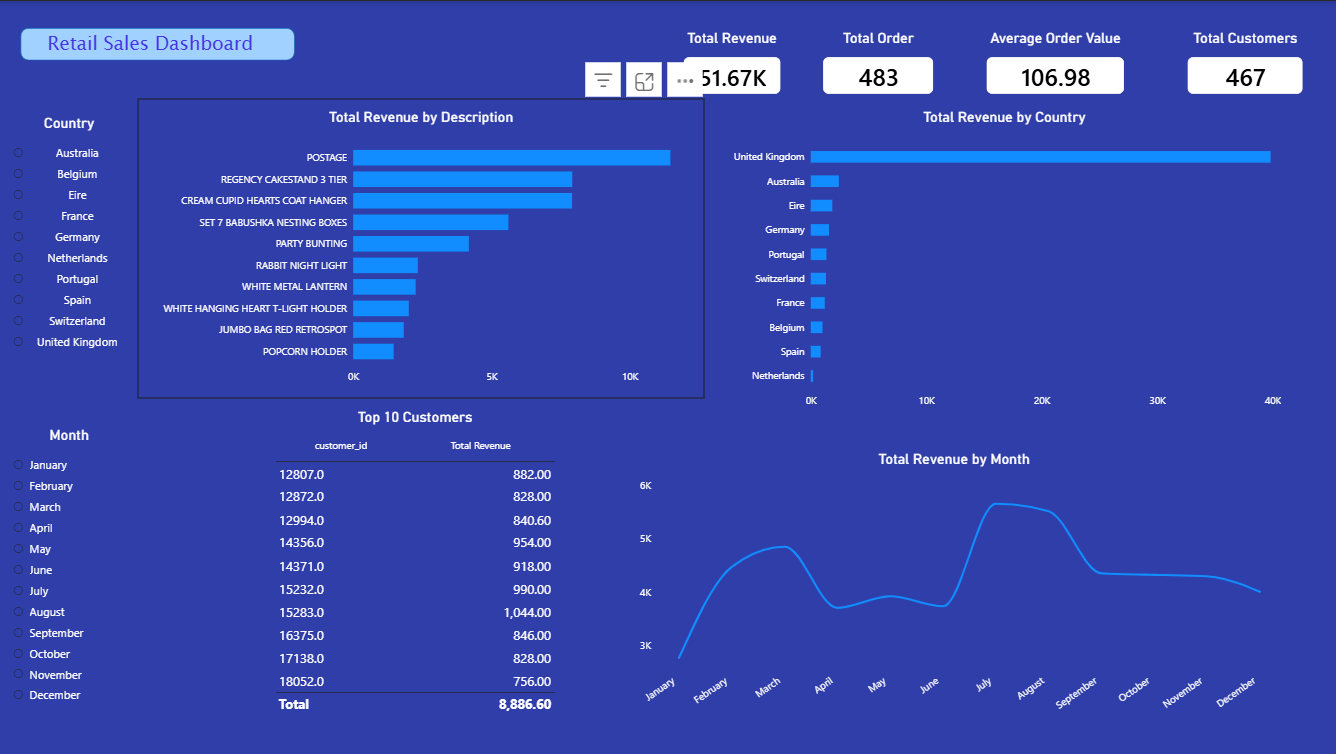

What the dashboard file says about the page in this screenshot:
{"tool":"powerbi","page":{"name":"Page 1","canvas":[1920,1080],"ordinal":0},"visuals":[{"type":"cardVisual","title":"Total Revenue","fields":{"Data":["retail_sales sales.Total Revenue"]},"box":[982.4,41.5,139.1,92.7],"z":0},{"type":"cardVisual","title":"Total Order","fields":{"Data":["retail_sales sales.Total Orders"]},"box":[1182.5,41.5,158.6,92.7],"z":1000},{"type":"cardVisual","title":"Average Order Value","fields":{"Data":["retail_sales sales.Average Order Value"]},"box":[1416.7,41.5,197.6,92.7],"z":2000},{"type":"cardVisual","title":"Total Customers","fields":{"Data":["retail_sales sales.Total Customers"]},"box":[1704.6,41.5,165.9,92.7],"z":3000},{"type":"lineChart","fields":{"Category":["retail_sales sales.invoice_date.Variation.Date Hierarchy.Month"],"Y":["retail_sales sales.Total Revenue"]},"box":[885.7,629.5,968.6,419.6],"z":4000},{"type":"clusteredBarChart","title":"Total Revenue by Description","fields":{"Category":["retail_sales sales.description"],"Y":["retail_sales sales.Total Revenue"]},"box":[200.1,139.1,812.5,429.4],"z":5000},{"type":"clusteredBarChart","title":"Total Revenue by Country","fields":{"Category":["retail_sales sales.country"],"Y":["retail_sales sales.Total Revenue"]},"box":[1029.6,139.1,824.7,463.6],"z":6000},{"type":"tableEx","title":"Top 10 Customers","fields":{"Values":["retail_sales sales.customer_id","retail_sales sales.Total Revenue"]},"box":[380.6,568.5,434.3,512.4],"z":7000},{"type":"listSlicer","title":"Country","fields":{"Values":["retail_sales sales.country"]},"box":[4.9,148.8,195.2,390.4],"z":8000},{"type":"listSlicer","fields":{"Values":["retail_sales sales.invoice_date.Variation.Date Hierarchy.Month"]},"box":[4.9,595.3,195.2,453.8],"z":9000},{"type":"shape","box":[31.7,39,392.8,46.4],"z":10000},{"type":"textbox","box":[70.8,41.5,378.2,46.4],"z":10001}]}

Visuals, with their boxes in screenshot pixels (x1, y1, x2, y2), scaled from the page's 1920x1080 canvas onto the 1336x754 screenshot:
"Total Revenue" cardVisual: 684,29,780,94
"Total Order" cardVisual: 823,29,933,94
"Average Order Value" cardVisual: 986,29,1123,94
"Total Customers" cardVisual: 1186,29,1302,94
lineChart - retail_sales sales.invoice_date.Variation.Date Hierarchy.Month x retail_sales sales.Total Revenue: 616,439,1290,732
"Total Revenue by Description" clusteredBarChart: 139,97,705,397
"Total Revenue by Country" clusteredBarChart: 716,97,1290,421
"Top 10 Customers" tableEx: 265,397,567,753
"Country" listSlicer: 3,104,139,376
listSlicer - retail_sales sales.invoice_date.Variation.Date Hierarchy.Month: 3,416,139,732
shape: 22,27,295,60
textbox: 49,29,312,61
